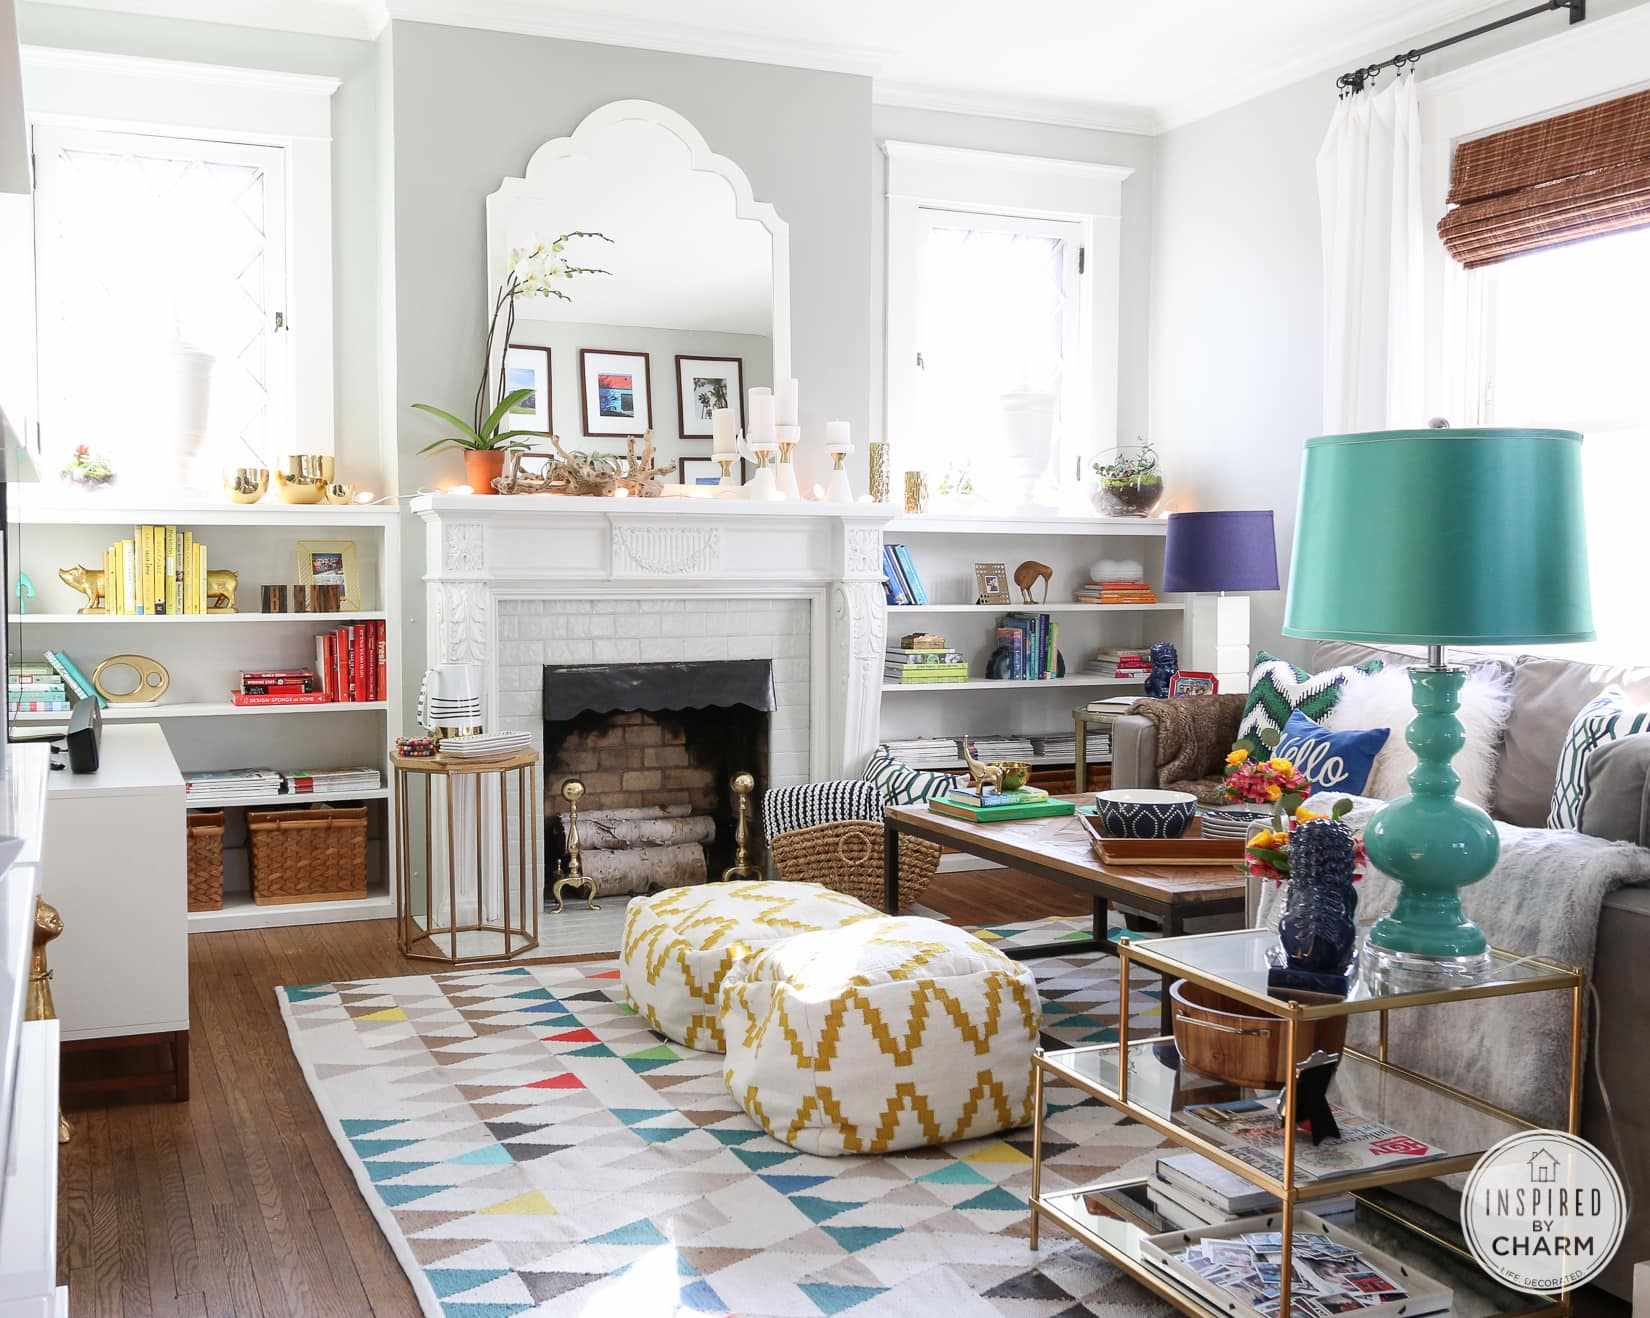coklat: (247, 810, 372, 902), (188, 814, 225, 910)
hijau: (1296, 438, 1603, 937)
hitam: (69, 697, 104, 773)
merah: (320, 628, 385, 702)
putih: (52, 724, 190, 1033), (707, 399, 851, 492)
ungu: (1162, 512, 1283, 594)
